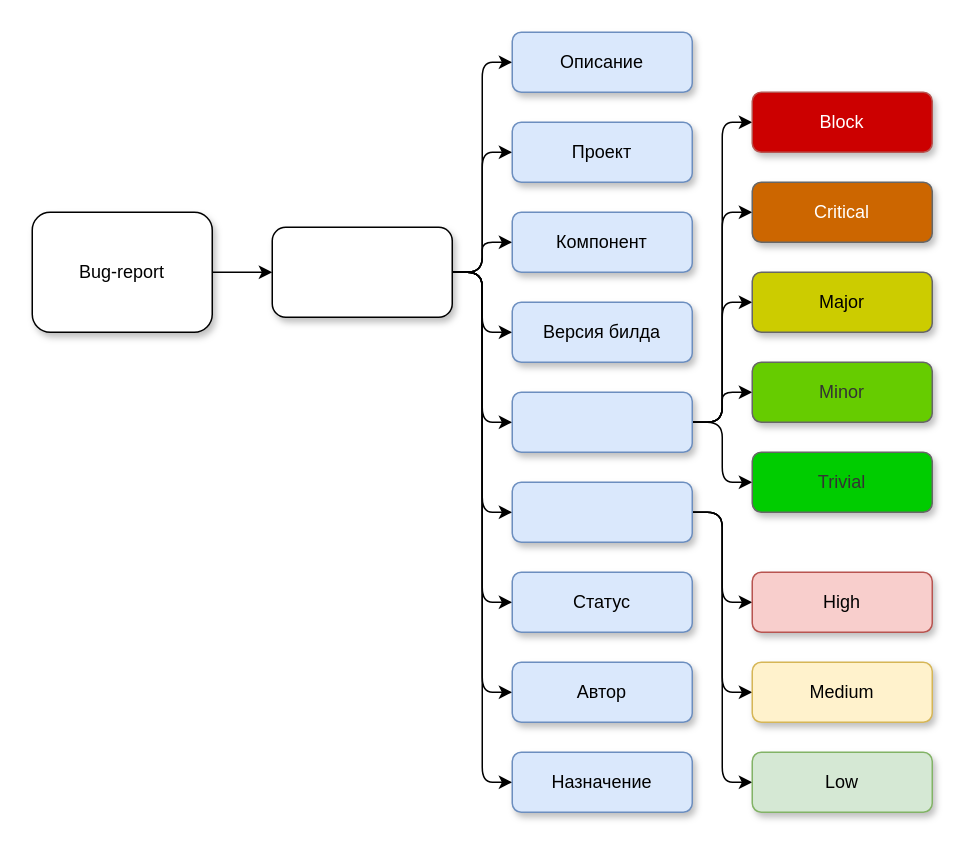
The diagram is 968 pixels wide and 849 high, and some of its shapes have lost their labels. The centre of each missing label's shape, as x and y in pixels:
"Atributes" goes at (x=363, y=274).
"Приоритет" goes at (x=603, y=514).
"Серьезность" goes at (x=603, y=424).
